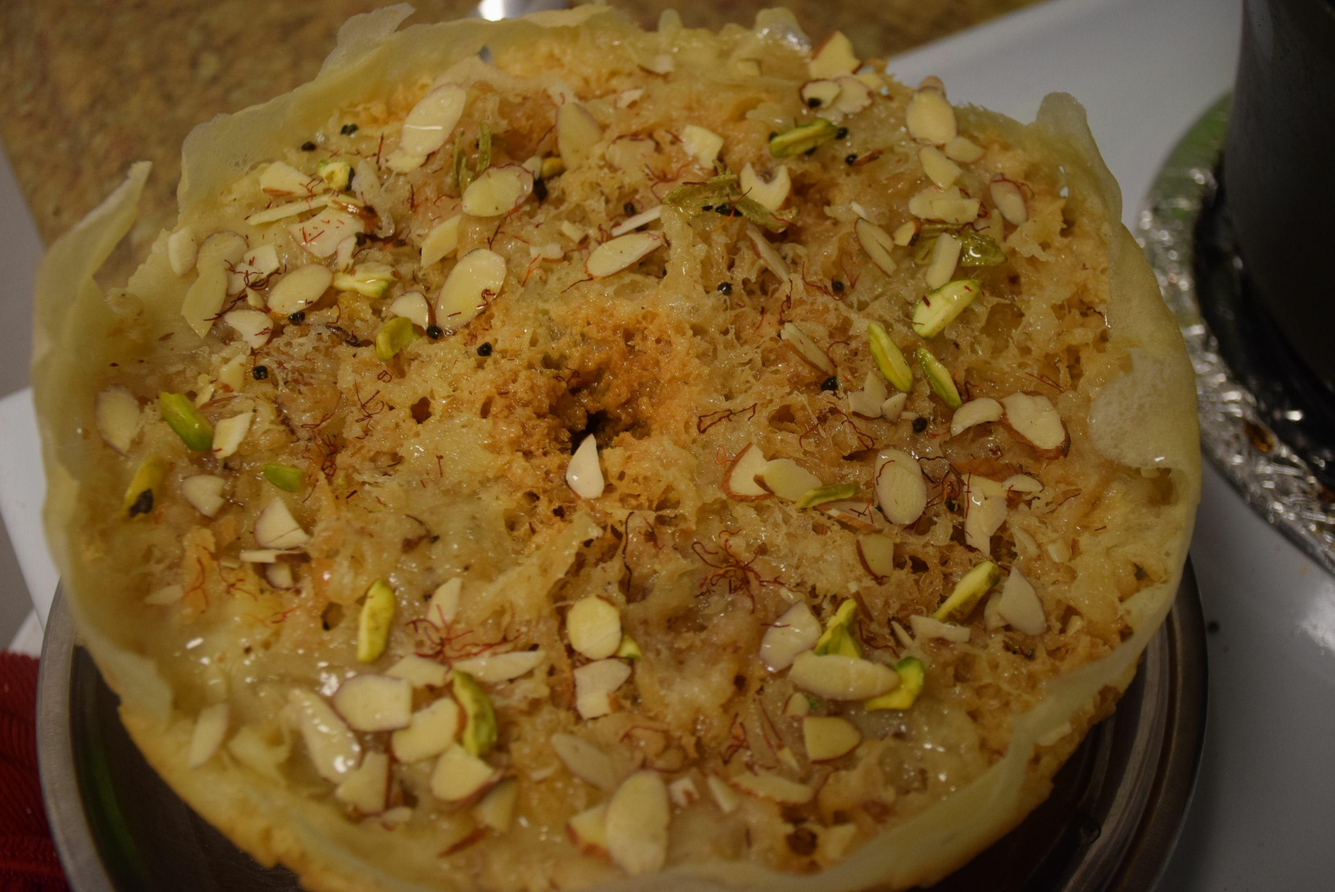Ghevar: (23, 7, 1212, 892)
